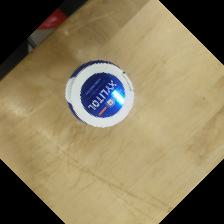Xylitol_blue: (64, 60, 135, 128)
